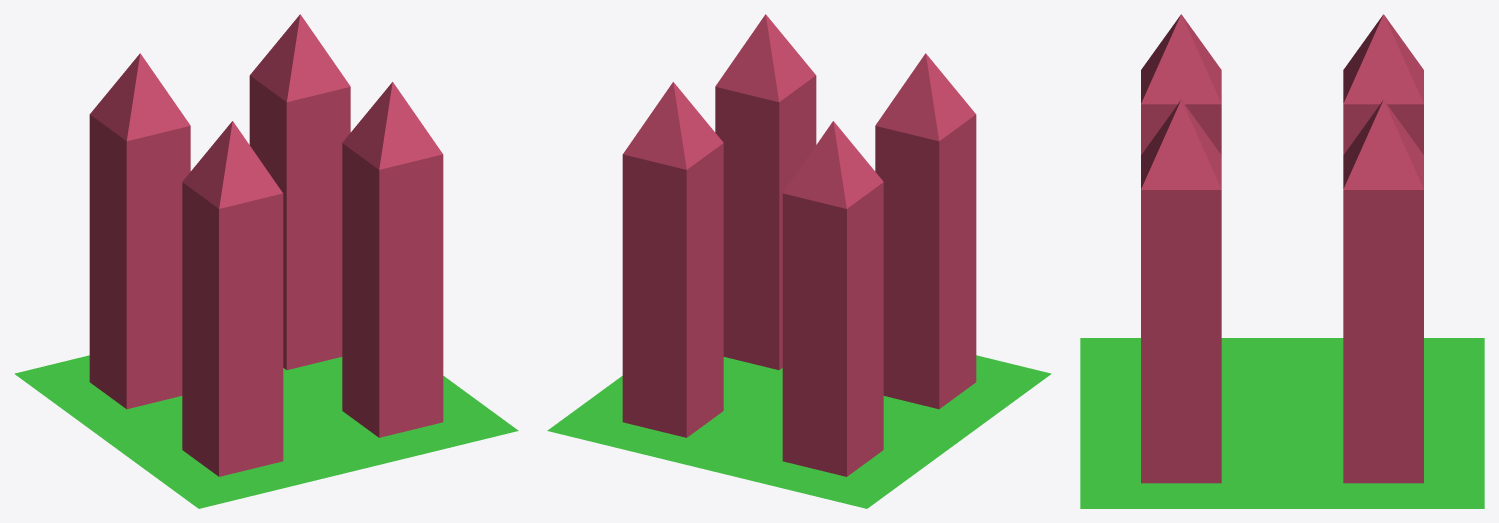
File: CityCenter.fbx
The picture shows the model from 3 angles, left to right: view 1: azimuth 30°, elevation 25°; view 2: azimuth 150°, elevation 25°; view 3: azimuth 270°, elevation 25°; orthographic projection. The views are drawn at different scales.
Parts seen in each view (by area): view 1: Cube, Cube.001, Cube.005, Plane, Cube.004; view 2: Cube.005, Cube.004, Cube, Plane, Cube.001; view 3: Plane, Cube.001, Cube.004, Cube, Cube.005.
Part boxes in pixels (left/top/right/bottom): Cube: left=182, top=121, right=283, bottom=476; Cube.001: left=342, top=82, right=443, bottom=437; Cube.005: left=89, top=53, right=190, bottom=409; Plane: left=14, top=355, right=518, bottom=508; Cube.004: left=249, top=14, right=350, bottom=369; Cube.005: left=782, top=121, right=883, bottom=476; Cube.004: left=622, top=82, right=723, bottom=437; Cube: left=875, top=53, right=976, bottom=409; Plane: left=547, top=355, right=1051, bottom=508; Cube.001: left=715, top=14, right=816, bottom=369; Plane: left=1080, top=338, right=1484, bottom=508; Cube.001: left=1141, top=99, right=1221, bottom=483; Cube.004: left=1343, top=99, right=1423, bottom=483; Cube: left=1141, top=14, right=1221, bottom=154; Cube.005: left=1343, top=14, right=1423, bottom=154.
Bounding box in the file's own units: 200 × 200 × 200.
